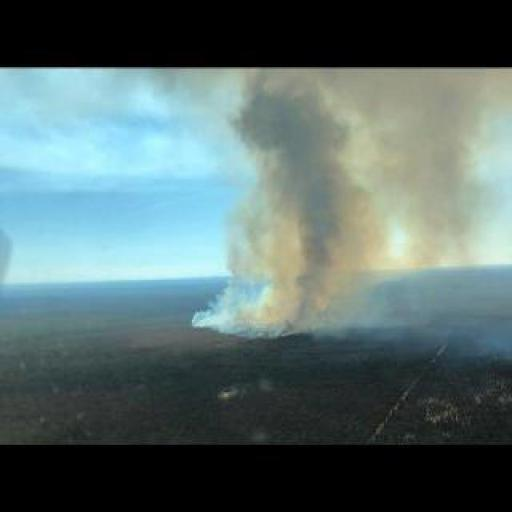smoke: (187, 69, 504, 347)
